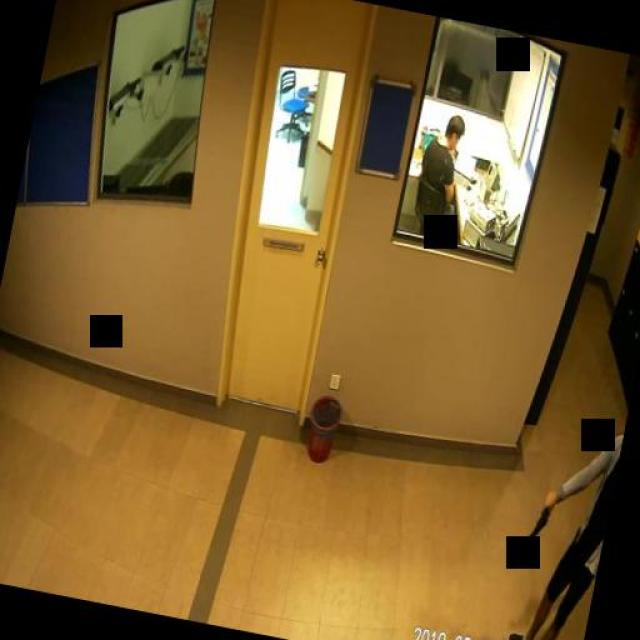gun: (522, 488, 554, 548)
